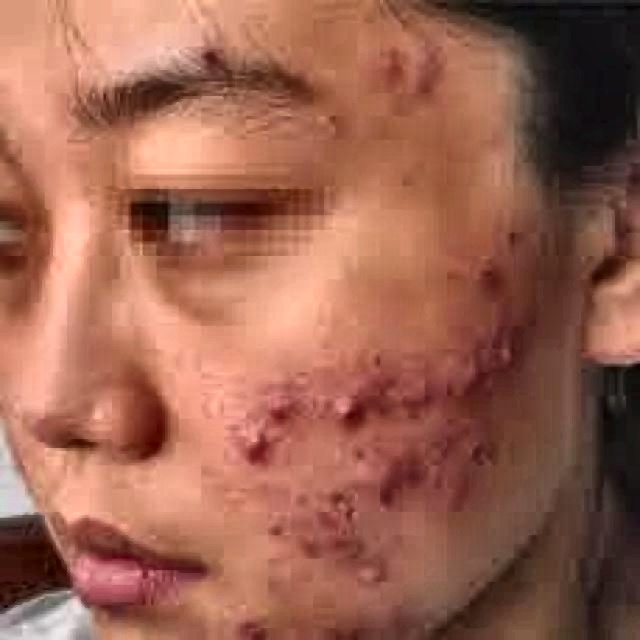papule: (321, 378, 369, 425), (229, 413, 271, 466), (442, 465, 484, 518), (450, 256, 500, 294), (422, 422, 464, 462), (456, 434, 508, 466), (425, 355, 472, 390), (350, 457, 402, 486), (363, 47, 400, 87), (498, 218, 542, 250), (386, 364, 422, 402), (254, 390, 294, 419), (358, 366, 394, 398), (481, 332, 517, 364), (327, 480, 358, 515), (394, 442, 425, 474), (332, 538, 369, 562), (458, 349, 495, 372), (310, 512, 341, 538), (263, 509, 285, 544), (414, 73, 438, 102), (364, 553, 388, 582), (290, 536, 308, 564), (422, 50, 439, 76)
